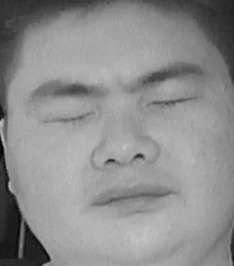blink: (44, 102, 98, 136), (147, 87, 198, 119)
mouth: (92, 175, 172, 216)
